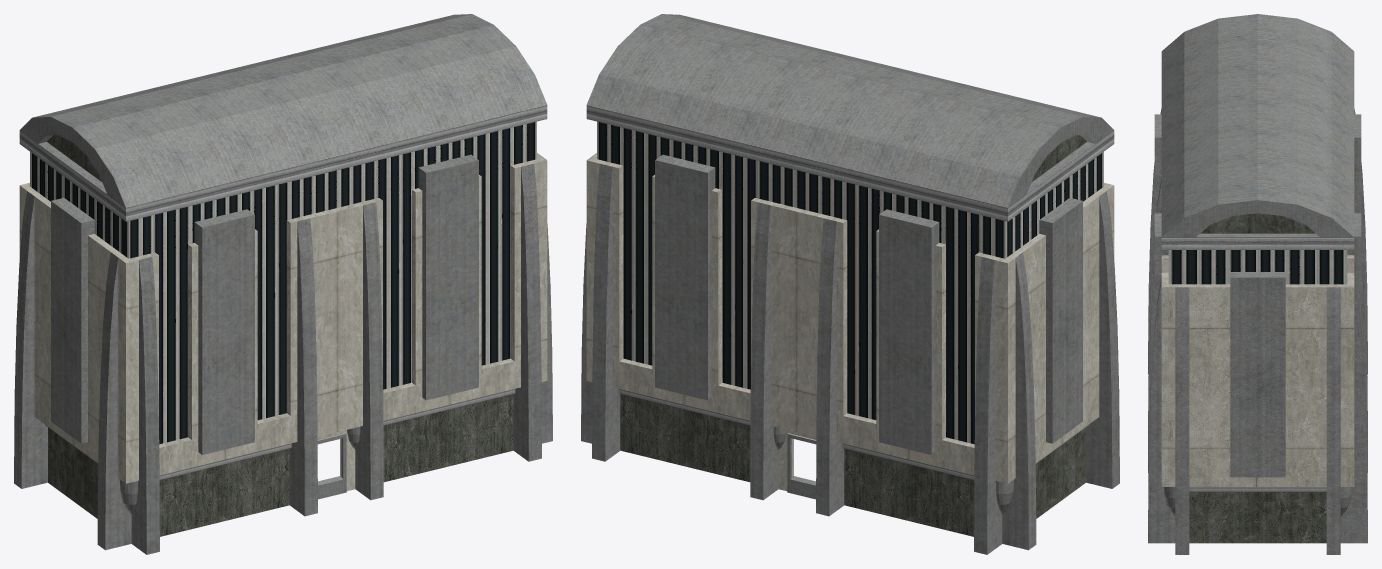
Rendered from thm_corl_imprv_building_block_32x16_s01_r0_mesh_l0.fbx.
The picture shows the model from 3 angles, left to right: view 1: azimuth 30°, elevation 25°; view 2: azimuth 150°, elevation 25°; view 3: azimuth 270°, elevation 25°; orthographic projection. The views are drawn at different scales.
Parts seen in each view (by area): view 1: mesh_node; view 2: mesh_node; view 3: mesh_node.
Boxes of the visible parts, x1=… form: mesh_node: x1=14, y1=14, x2=552, y2=554; mesh_node: x1=581, y1=14, x2=1119, y2=554; mesh_node: x1=1148, y1=14, x2=1367, y2=554.
Size of the model in its own units: 33.98 by 27.99 by 15.98.
